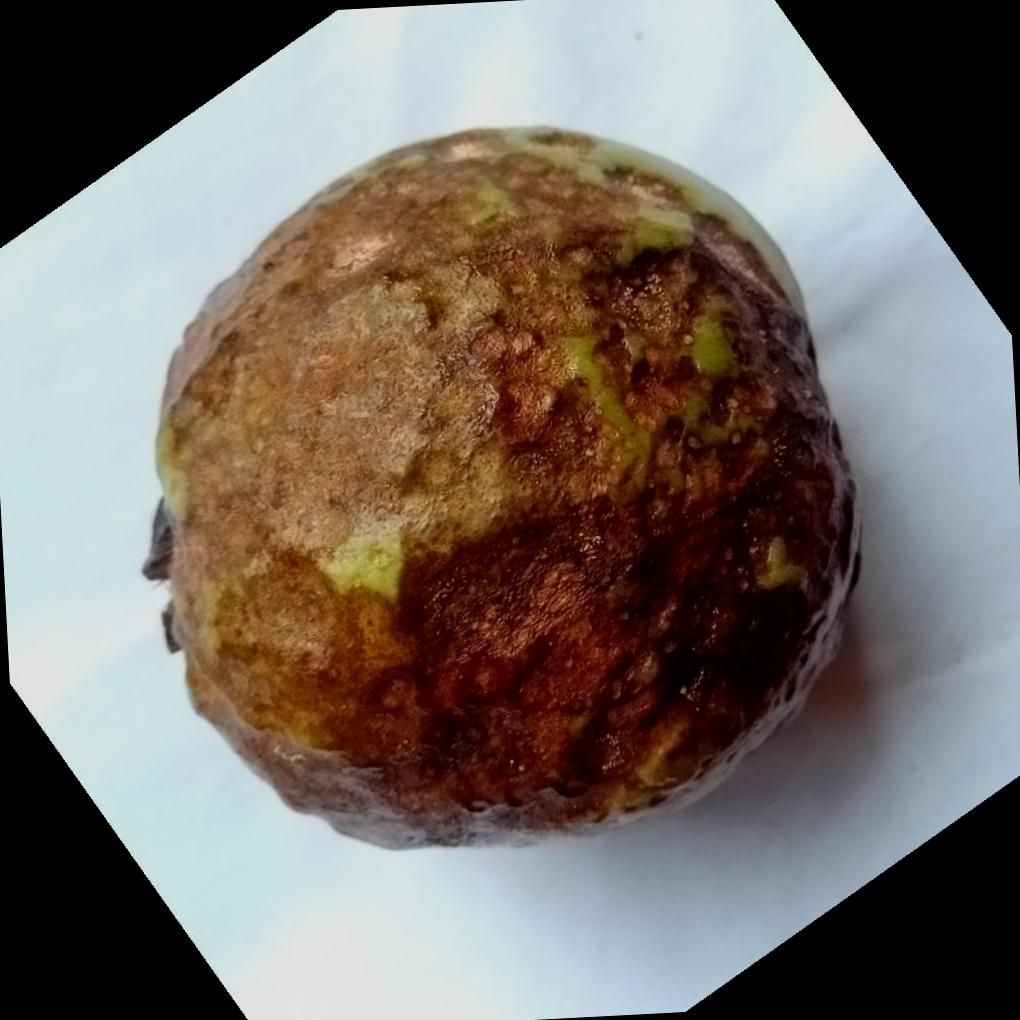FreshOrange: (142, 121, 862, 848)
